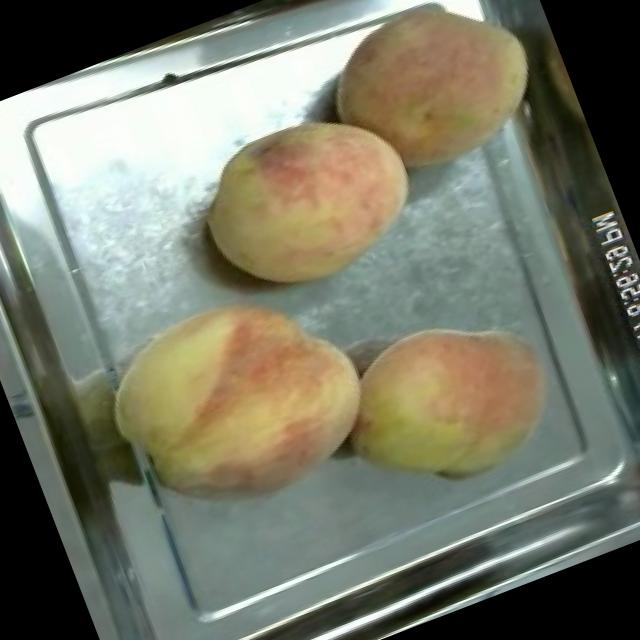Fruit: (80, 254, 396, 546), (312, 278, 587, 522), (172, 78, 442, 320), (298, 0, 569, 203)
